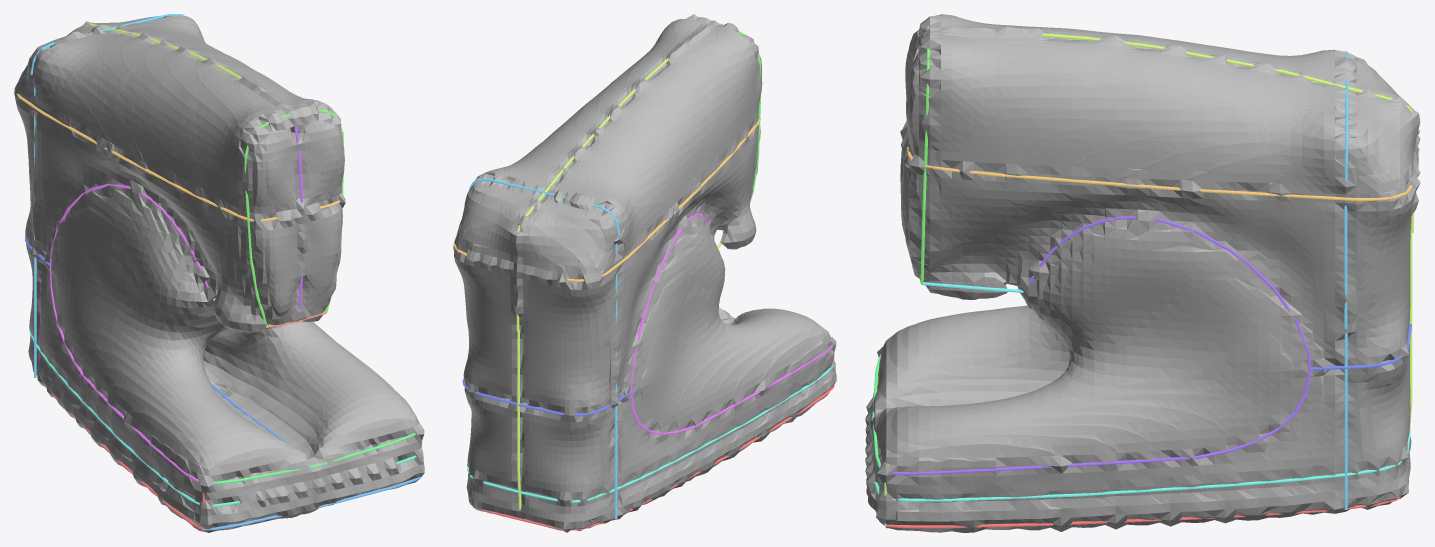
The model's file is t2f_sewing_machine.gltf.
The picture shows the model from 3 angles, left to right: view 1: azimuth 30°, elevation 25°; view 2: azimuth 150°, elevation 25°; view 3: azimuth 270°, elevation 25°; orthographic projection. The views are drawn at different scales.
Size of the model in its own units: 0.3925 by 0.6522 by 0.7081.
